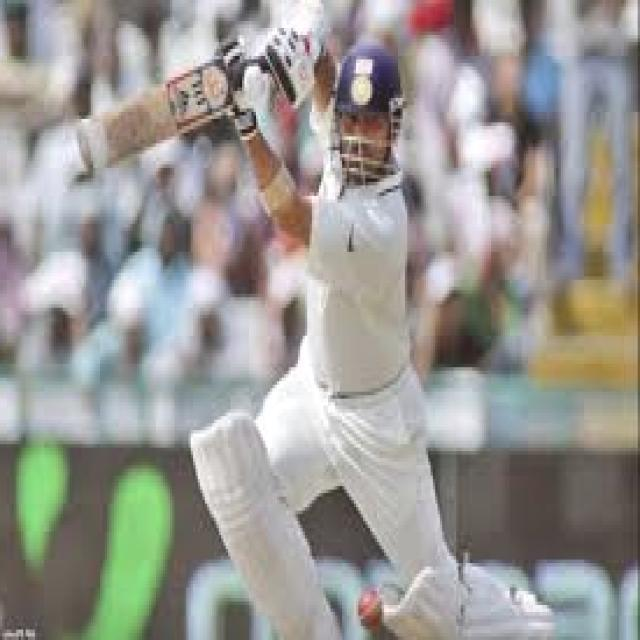bat: (58, 55, 242, 188)
toe: (81, 120, 95, 171)
